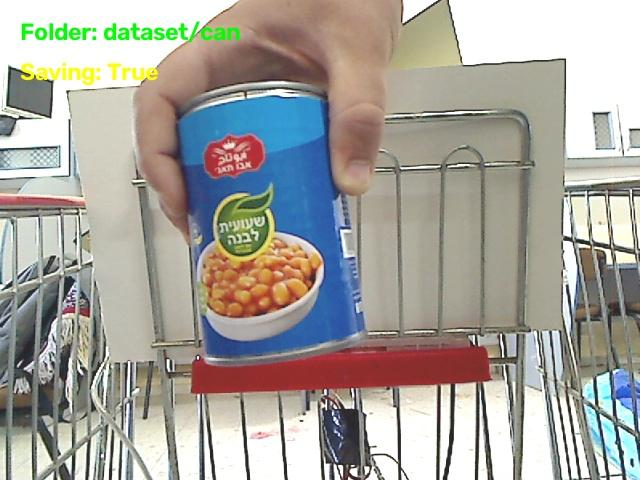can: (179, 81, 365, 364)
